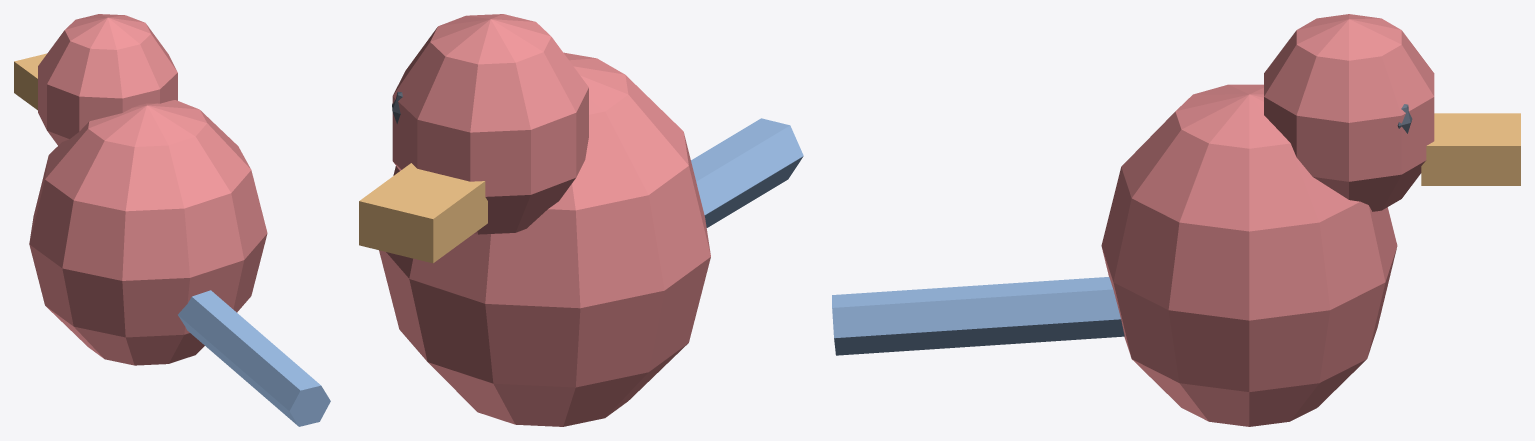
Rendered from loro_rojo.glb.
3 views of the same model, side by side, from view 1: azimuth 30°, elevation 25°; view 2: azimuth 150°, elevation 25°; view 3: azimuth 270°, elevation 25° (orthographic). The views are drawn at different scales.
Visible parts, largest first — view 1: loro_rojo; view 2: loro_rojo; view 3: loro_rojo.
Part boxes in pixels (x1,y1,x2,y2): loro_rojo: [14, 14, 330, 426]; loro_rojo: [359, 14, 803, 426]; loro_rojo: [832, 14, 1520, 426].
Bounding box in the file's own units: 0.5487 × 0.79 × 1.24.
